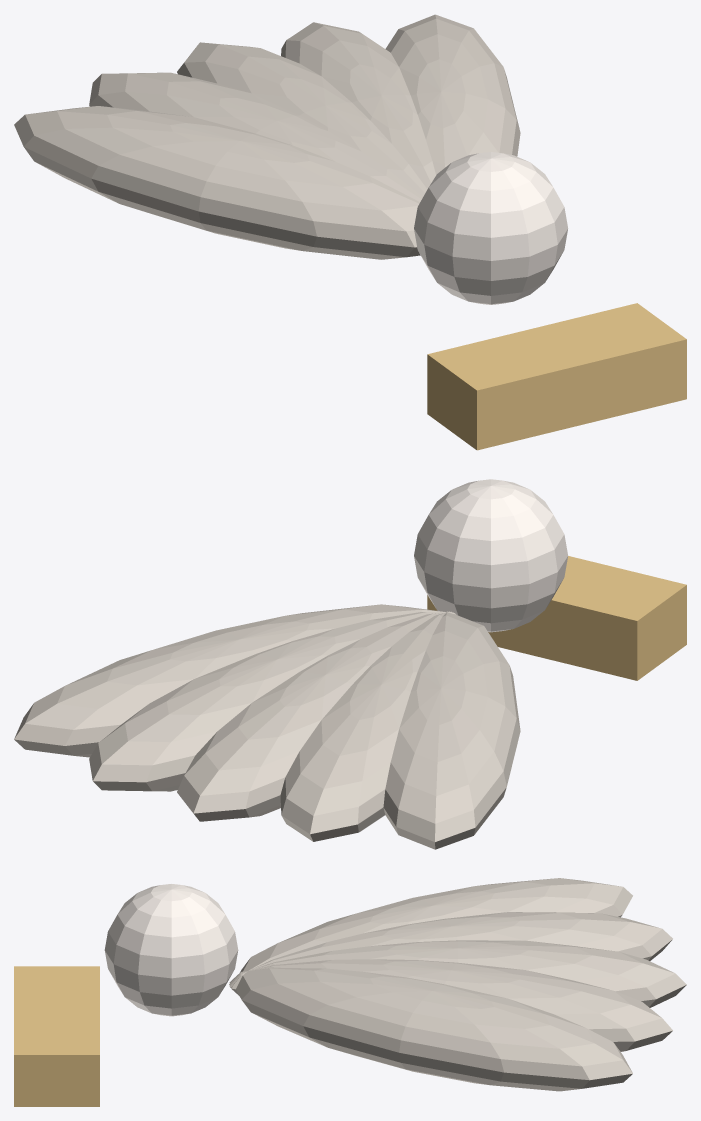
Rendered from charm-shell.glb.
The picture shows the model from 3 angles, top to bottom: view 1: azimuth 30°, elevation 25°; view 2: azimuth 150°, elevation 25°; view 3: azimuth 270°, elevation 25°; orthographic projection. The views are drawn at different scales.
Visible parts, largest first — view 1: charm_shell; view 2: charm_shell; view 3: charm_shell.
Part boxes in pixels (box(x1,y1,x2,y2)): charm_shell: box(14, 14, 686, 450); charm_shell: box(14, 479, 686, 849); charm_shell: box(14, 878, 686, 1106).
Size of the model in its own units: 0.00473 by 0.002 by 0.00705.
